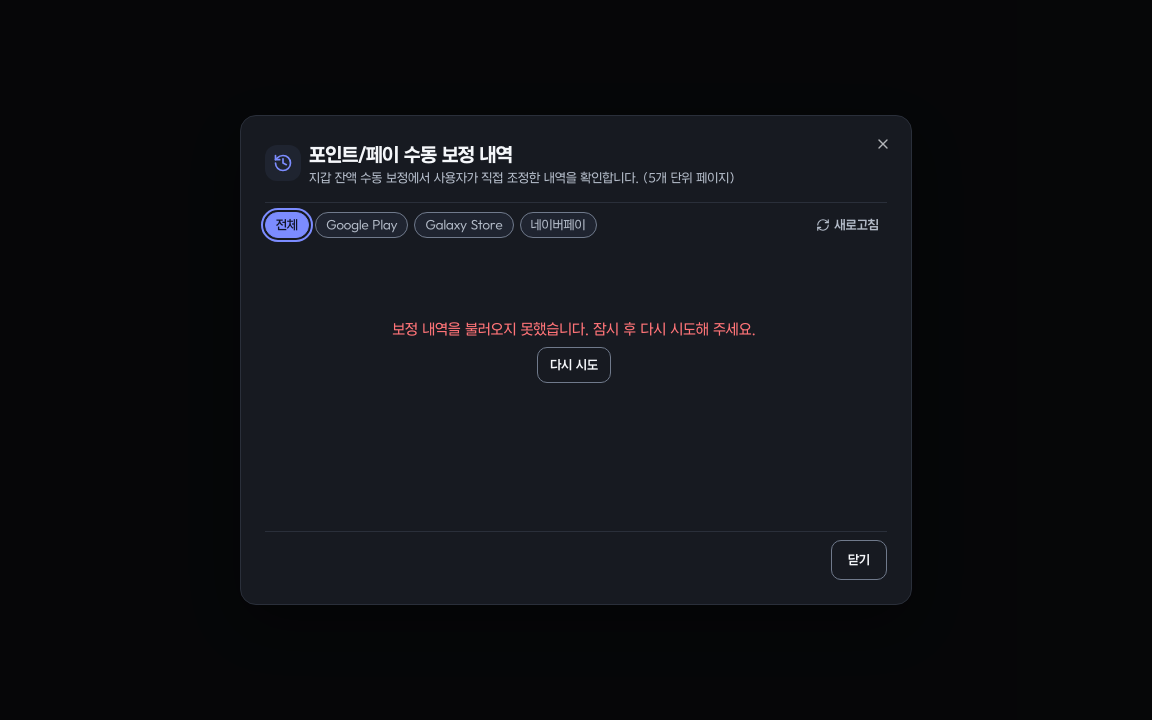
Test: StoreWalletAdjustHistoryModal › handles fetch errors gracefully with a retry button
Check: the text "보정 내역을 불러오지 못했습니다. 잠시 후 다시 시도해 주세요." is shown, box [392, 319, 756, 339]
Click the button "다시 시도" at (574, 365), box [537, 347, 611, 383]
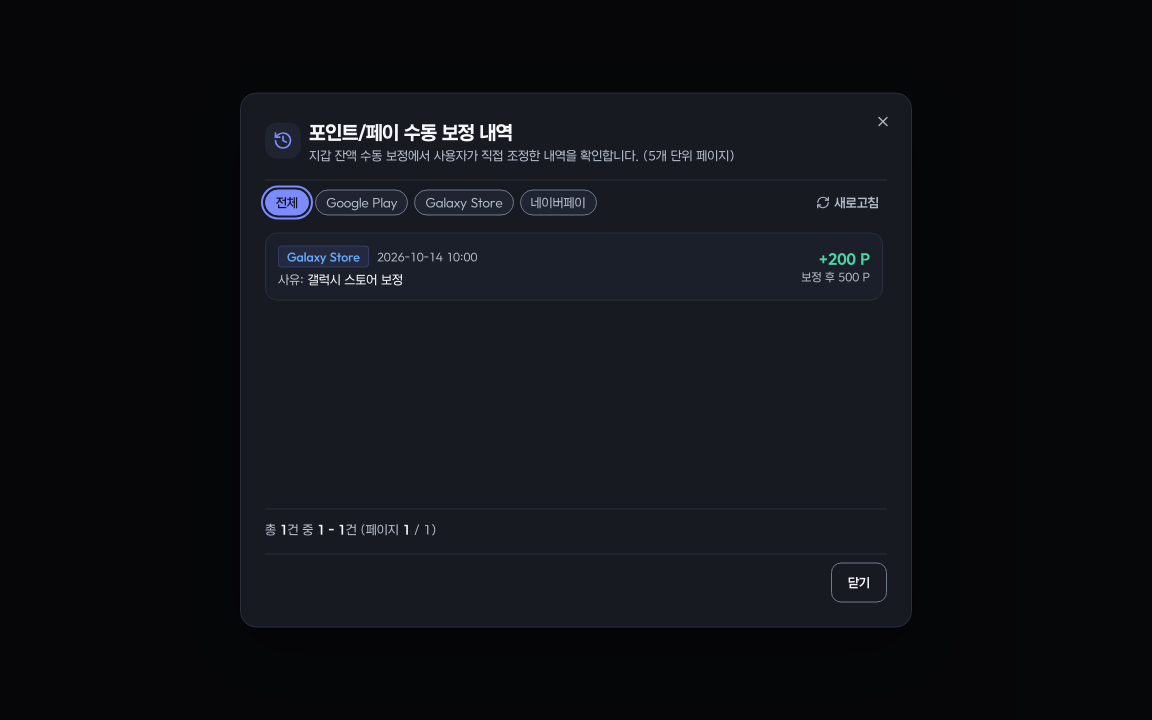
Check: the text "갤럭시 스토어 보정" is shown, box [308, 272, 403, 286]
